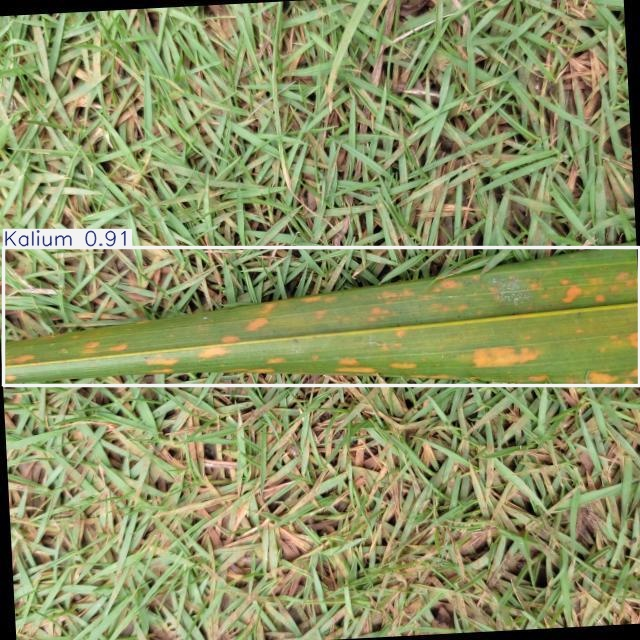Kalium: (4, 248, 639, 386)
